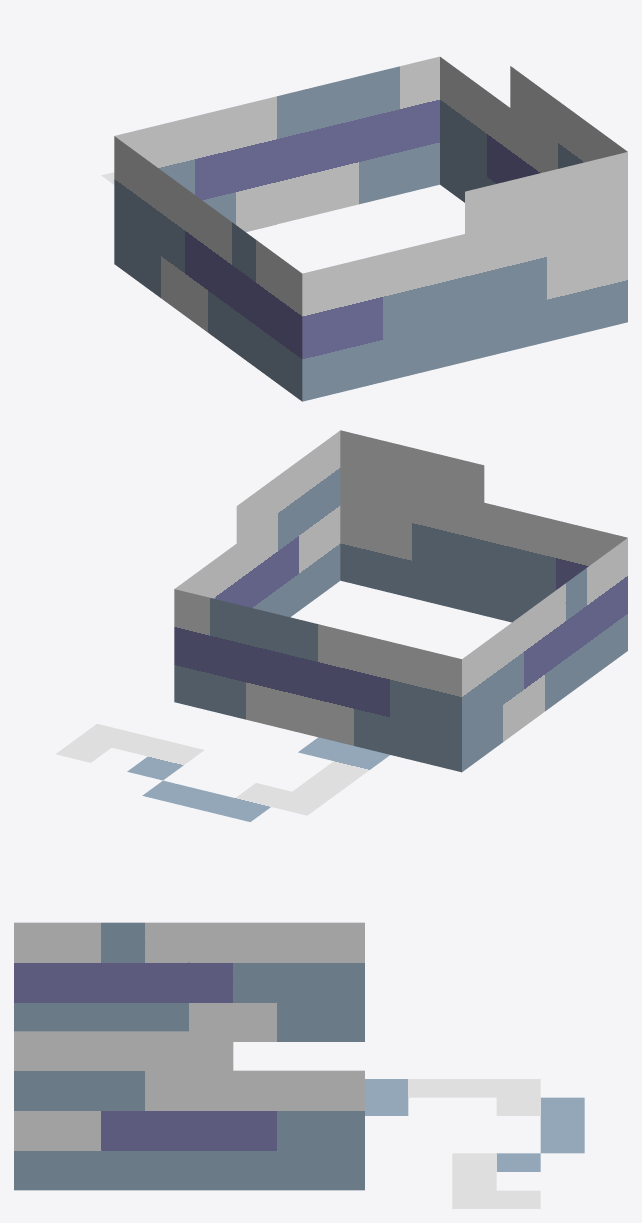
Rendered from string.gltf.
The picture shows the model from 3 angles, top to bottom: view 1: azimuth 30°, elevation 25°; view 2: azimuth 150°, elevation 25°; view 3: azimuth 270°, elevation 25°; orthographic projection. The views are drawn at different scales.
Visible parts, largest first — view 1: cube; view 2: cube (×2); view 3: cube (×2).
Boxes of the visible parts, <box> form: cube: <box>114,56,627,401</box>; cube (×2): <box>56,430,627,821</box>; cube (×2): <box>14,922,584,1208</box>.
Size of the model in its own units: 0.5625 by 0.25 by 0.875.
1 material, 1 textured.
